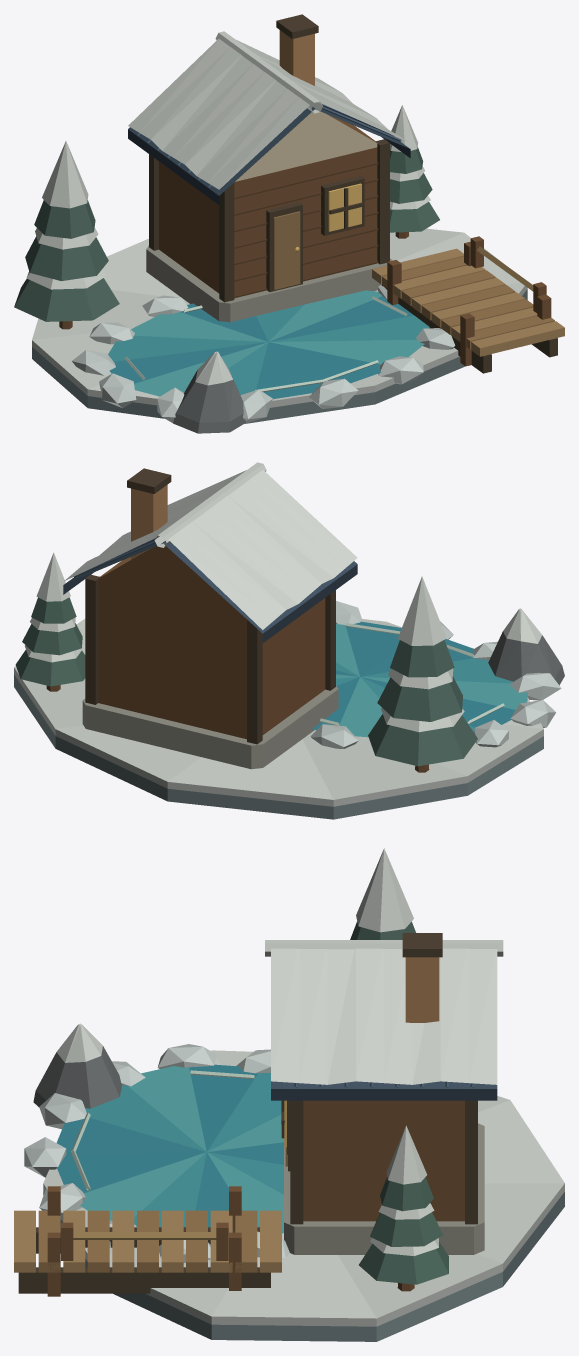
3 views of the same model, one above another, from view 1: azimuth 30°, elevation 25°; view 2: azimuth 150°, elevation 25°; view 3: azimuth 270°, elevation 25° (orthographic). The views are drawn at different scales.
Parts seen in each view (by area): view 1: S12_冰湖木屋; view 2: S12_冰湖木屋; view 3: S12_冰湖木屋.
Boxes of the visible parts, left/top/right/bottom form: S12_冰湖木屋: left=14, top=14, right=564, bottom=433; S12_冰湖木屋: left=14, top=462, right=564, bottom=819; S12_冰湖木屋: left=14, top=848, right=564, bottom=1341.
Bounding box in the file's own units: 4.9 × 2.65 × 4.26.
